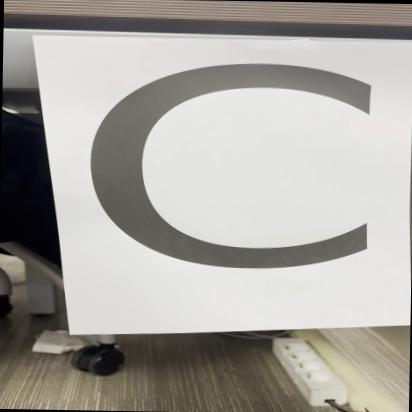seat: (34, 38, 412, 326)
